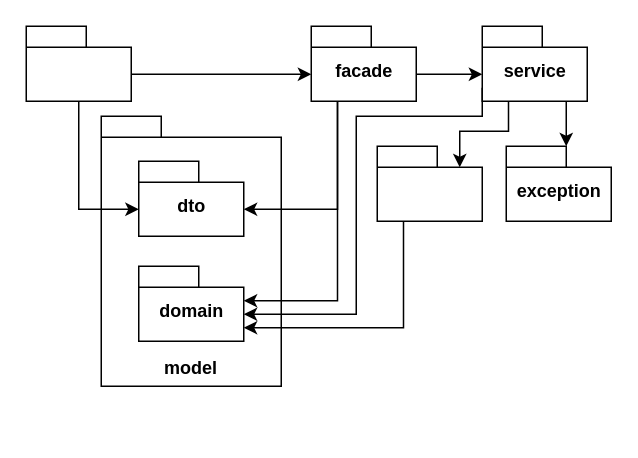
This 638x458 diagram has some shape labels left out. The centre of each missing label's shape, as x and y in pixels:
"controller" belongs at point 78,63.
"repository" belongs at point 429,183.
